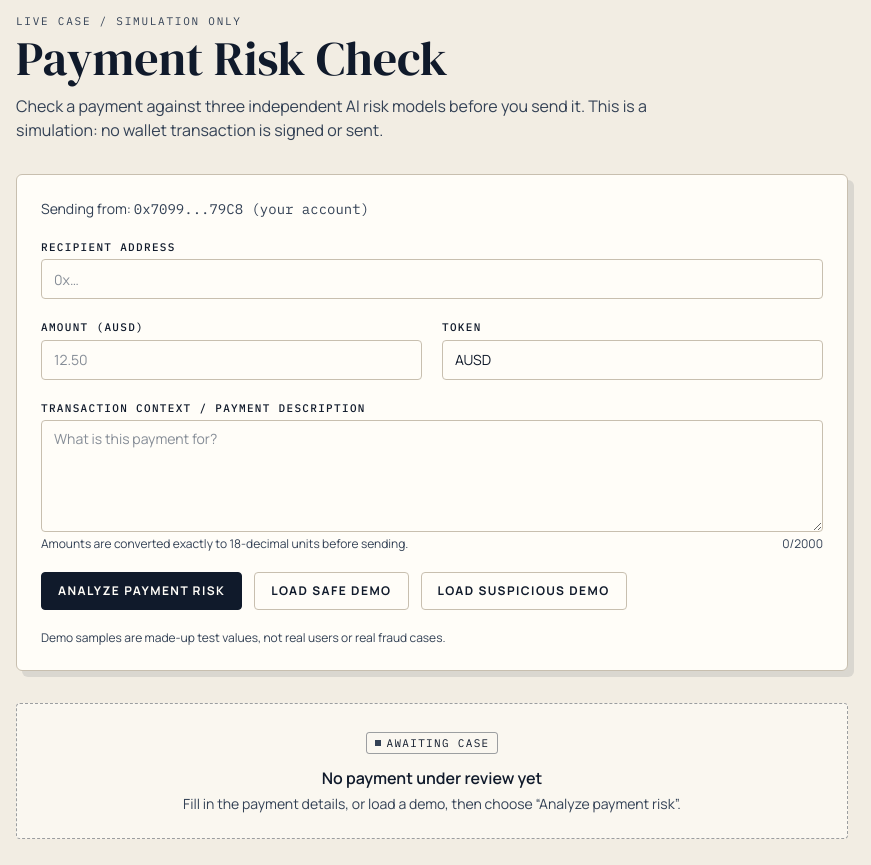
Test: Payment Risk Check page › uses the signed-in account as the sender
The image size is (871, 865).
Check: the text "0x7099...79C8 (your account)" is shown, box [134,200,369,218]
Click the button "Load safe demo": (331, 591) [254,572,409,610]
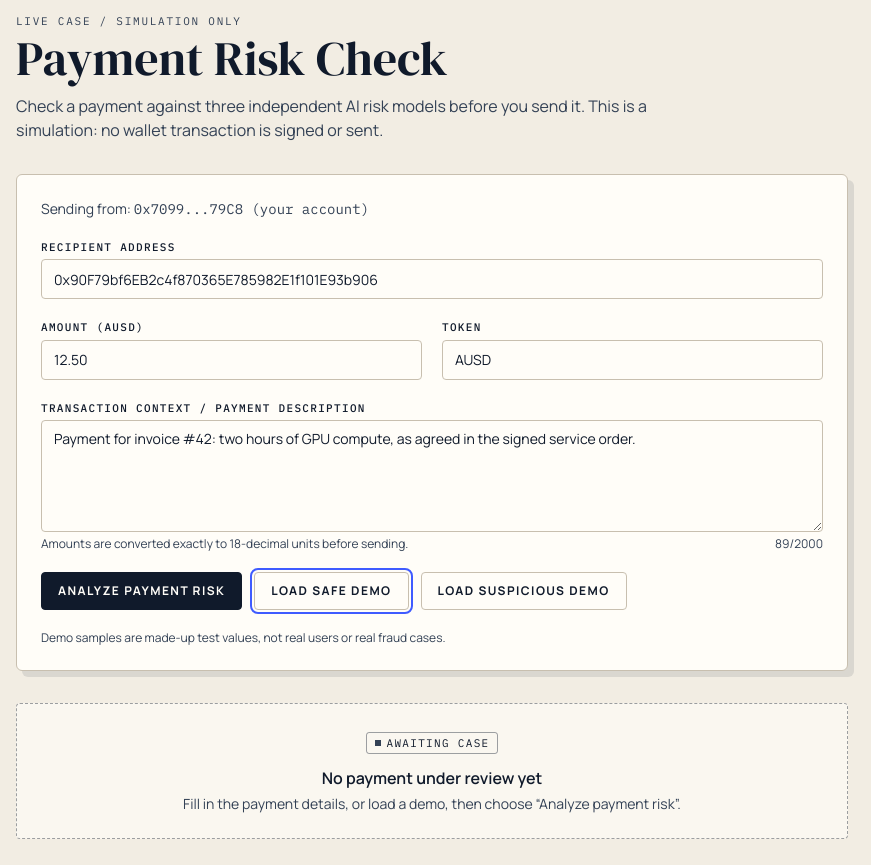
Click the button "Analyze payment risk": (142, 591) [41,572,242,610]
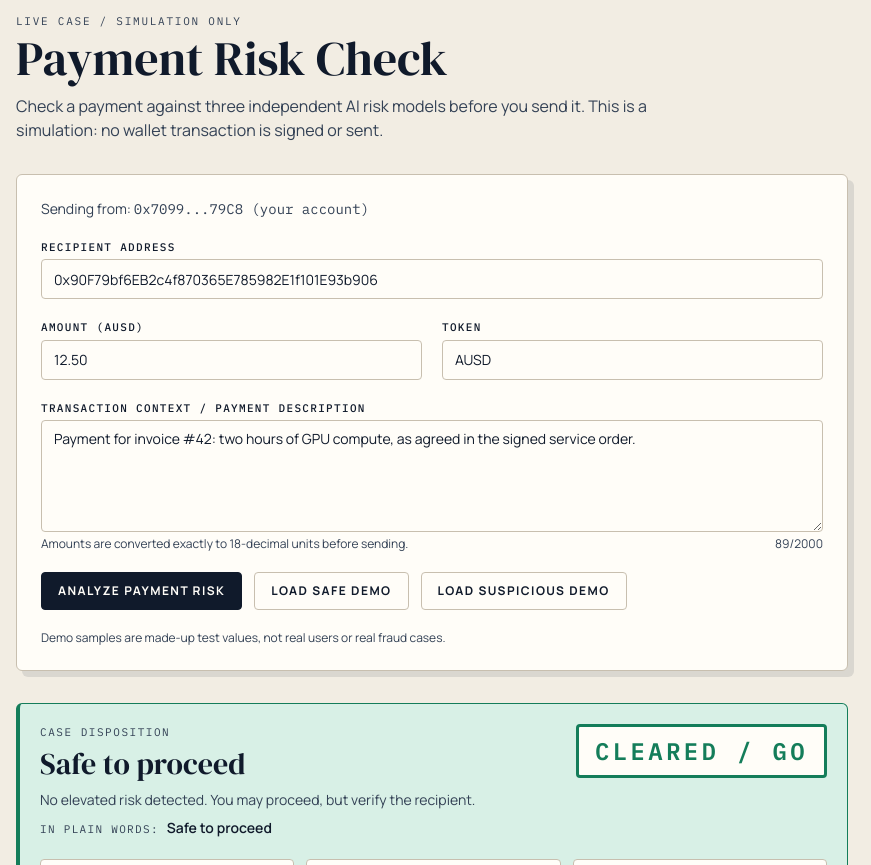
Check: the heading "Safe to proceed" is shown, box [40,742,245,784]
